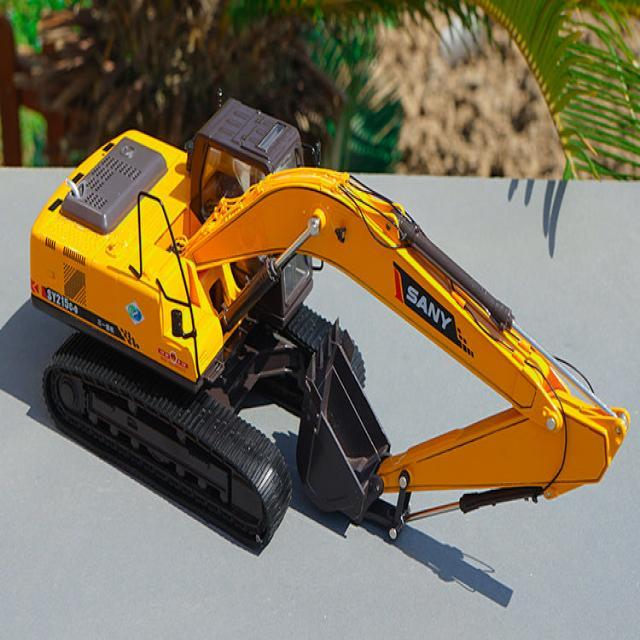C_E: (21, 100, 625, 551)
